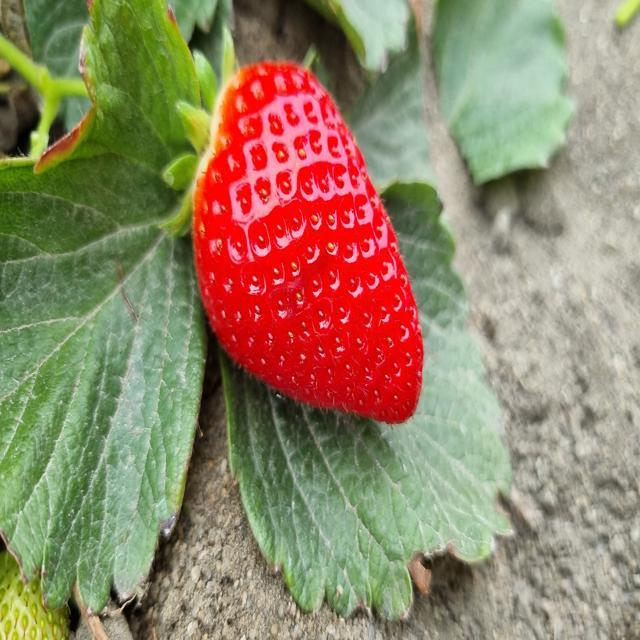Saludable: (189, 63, 426, 425)
